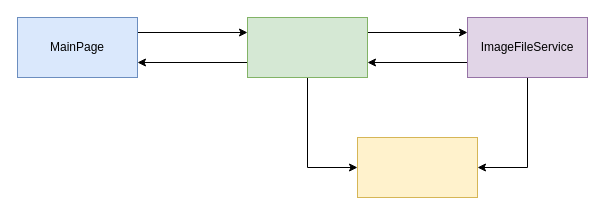
This 605x215 diagram has some shape labels left out. Each missing label, with the box of its shape:
ImageFileModel: (356, 136, 478, 198)
MainViewModel: (246, 16, 368, 78)
